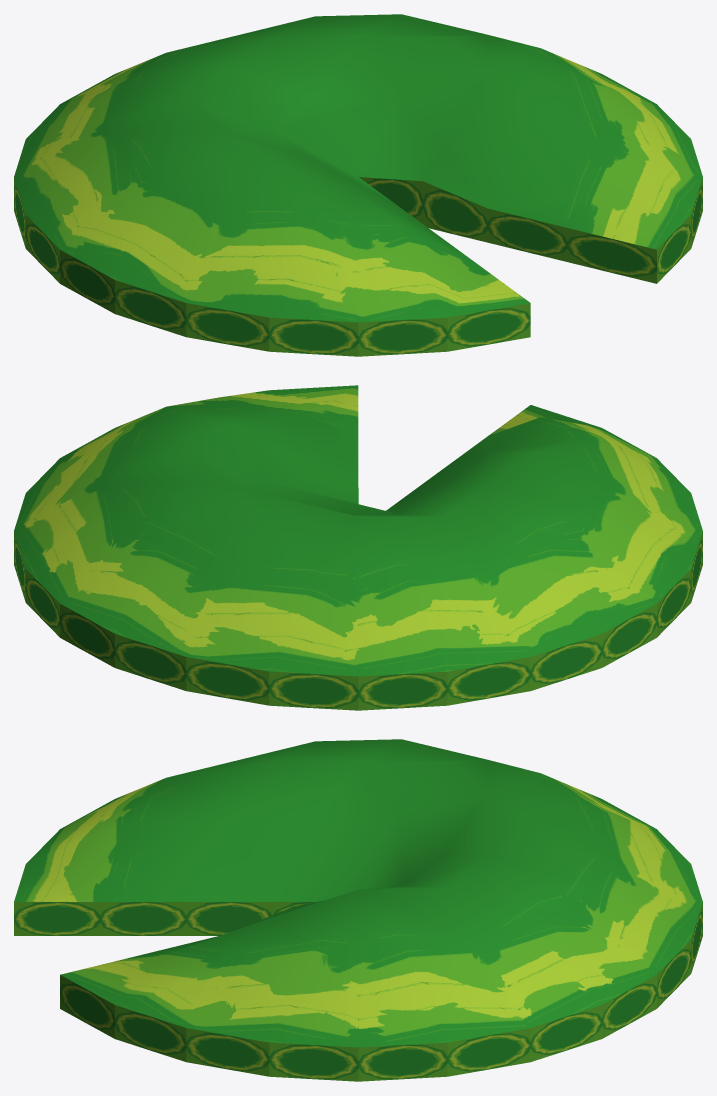
The model's file is Lotus_leaf 2.fbx.
3 views of the same model, one above another, from view 1: azimuth 30°, elevation 25°; view 2: azimuth 150°, elevation 25°; view 3: azimuth 270°, elevation 25° (orthographic).
Visible parts, largest first — view 1: pDisc1; view 2: pDisc1; view 3: pDisc1.
Boxes of the visible parts, <box> form: pDisc1: <box>14,14,702,356</box>; pDisc1: <box>14,385,702,710</box>; pDisc1: <box>14,739,702,1081</box>.
Size of the model in its own units: 1.02 by 0.1811 by 1.02.
